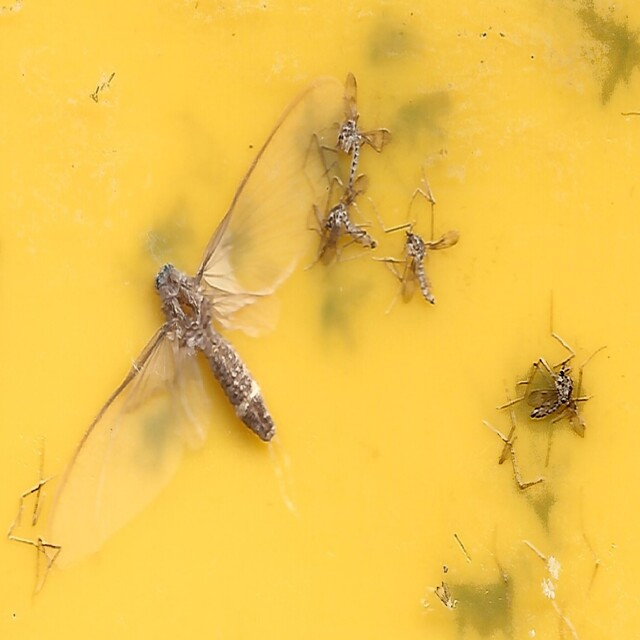Ephemeroptera: (49, 75, 348, 565)
Nematocera: (520, 356, 591, 439), (316, 171, 378, 263), (398, 227, 460, 312), (337, 111, 392, 206)
